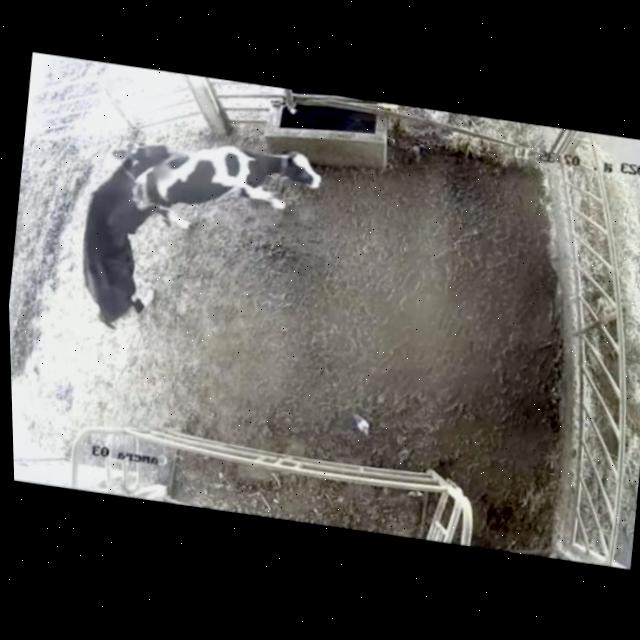ride: (60, 119, 203, 356)
stand: (132, 121, 327, 252)
